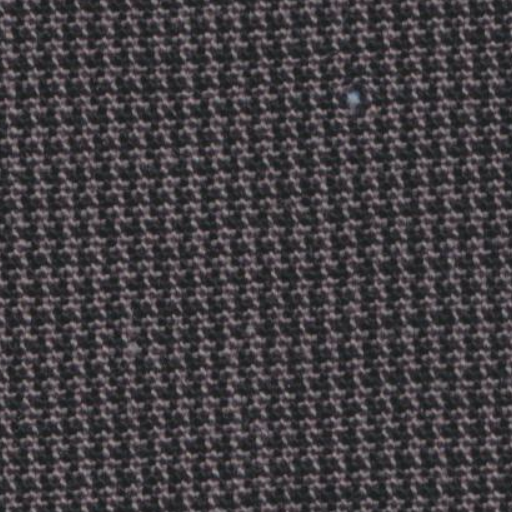PoDong: (325, 62, 384, 128)
